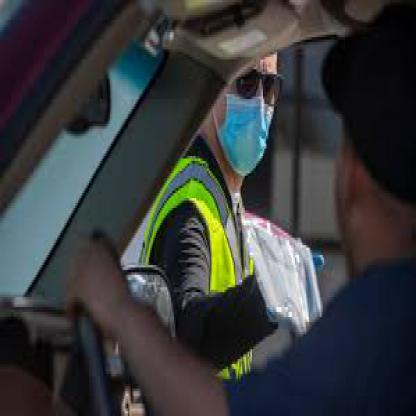Wearing_Mask: (210, 37, 277, 183)
